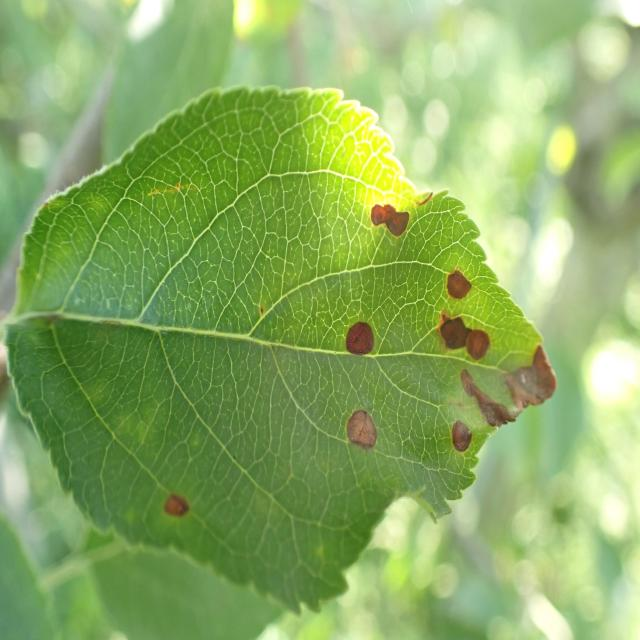Black Rot: (458, 342, 568, 444), (432, 298, 511, 371), (338, 389, 392, 474), (338, 307, 389, 373), (367, 198, 418, 254), (154, 486, 206, 536), (435, 258, 482, 309), (434, 410, 469, 468)
